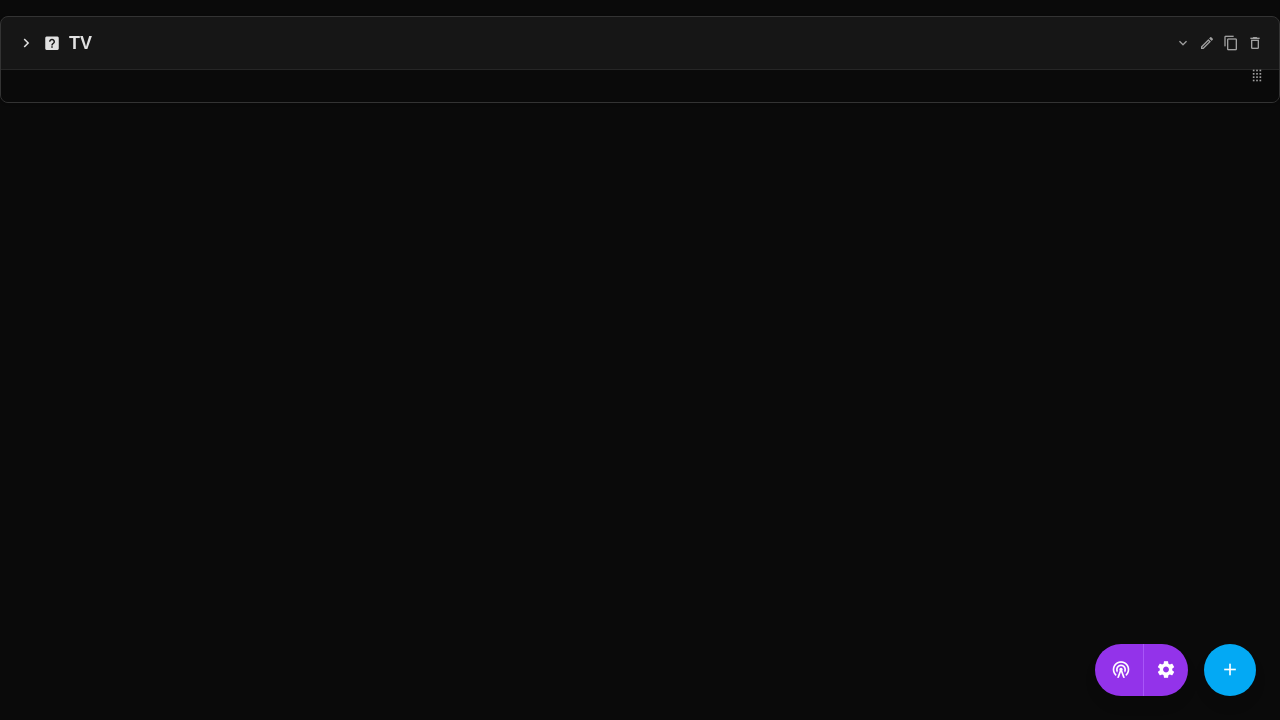
Test: Devices View › toggles MQTT topics visibility and icon
Expected: the 2nd icon with class "mdi-chevron-down" is shown, [1175, 35, 1191, 52]
# Click to show
What coordinates should you click on to do the following:
click the button titled "Show MQTT Topics"
I would click on:
 (1183, 43)
Its box is [1175, 31, 1191, 55].
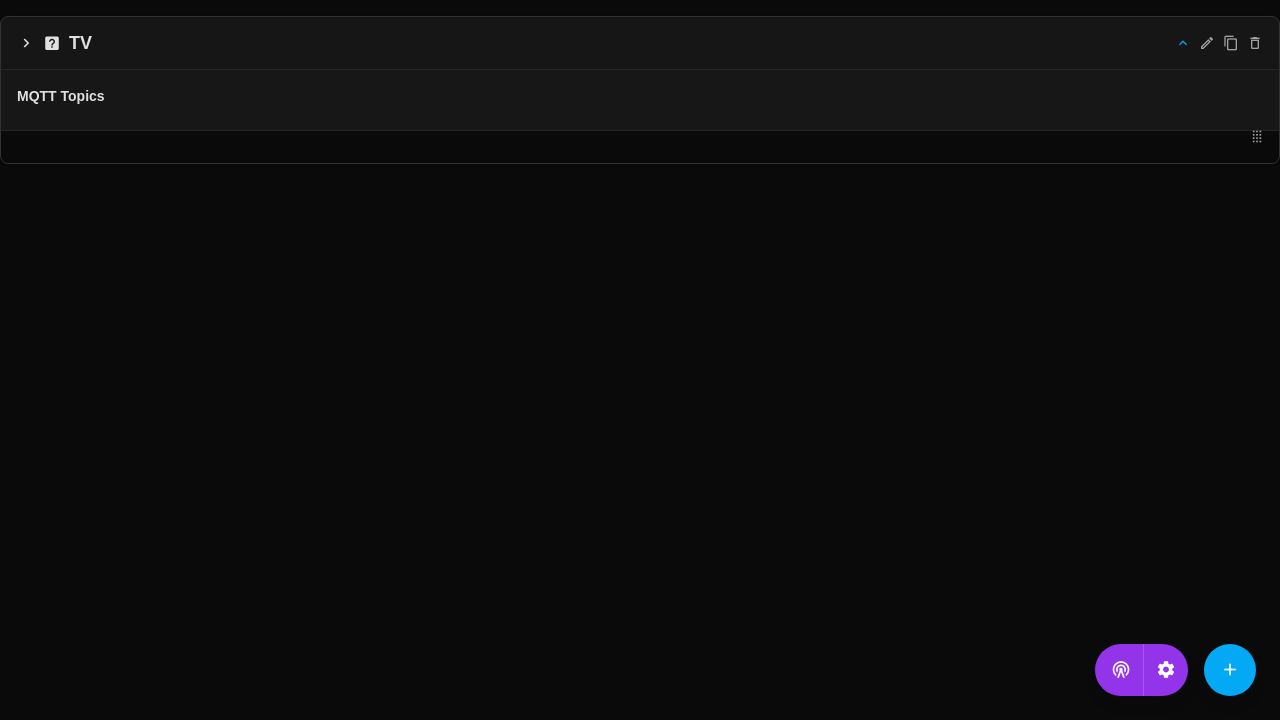
Expected: the heading with class "mb-2" reads "MQTT Topics", [17, 88, 105, 104]
Expected: the icon with class "mdi-chevron-up" is shown, [1175, 35, 1191, 52]
# Click to hide
What coordinates should you click on to do the following:
click the button titled "Hide MQTT Topics"
I would click on:
 (1183, 43)
Its box is [1175, 31, 1191, 55].
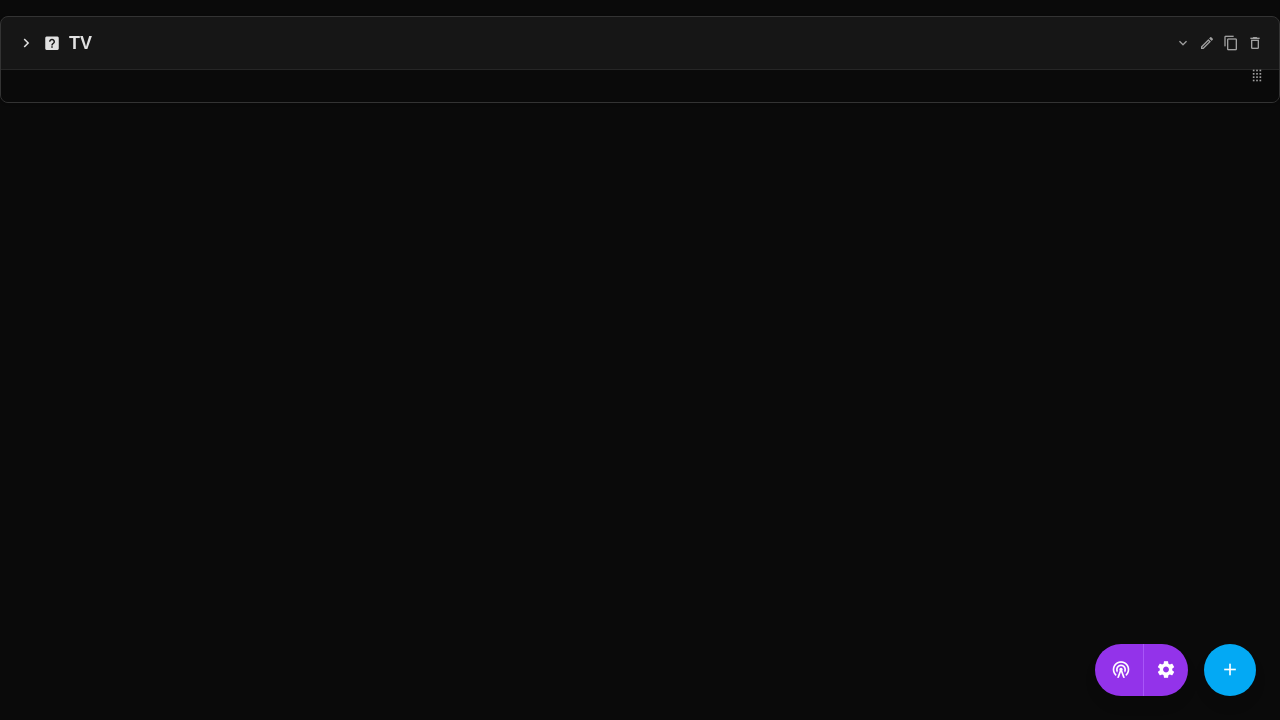
Expected: the 2nd icon with class "mdi-chevron-down" is shown, [1175, 35, 1191, 52]
